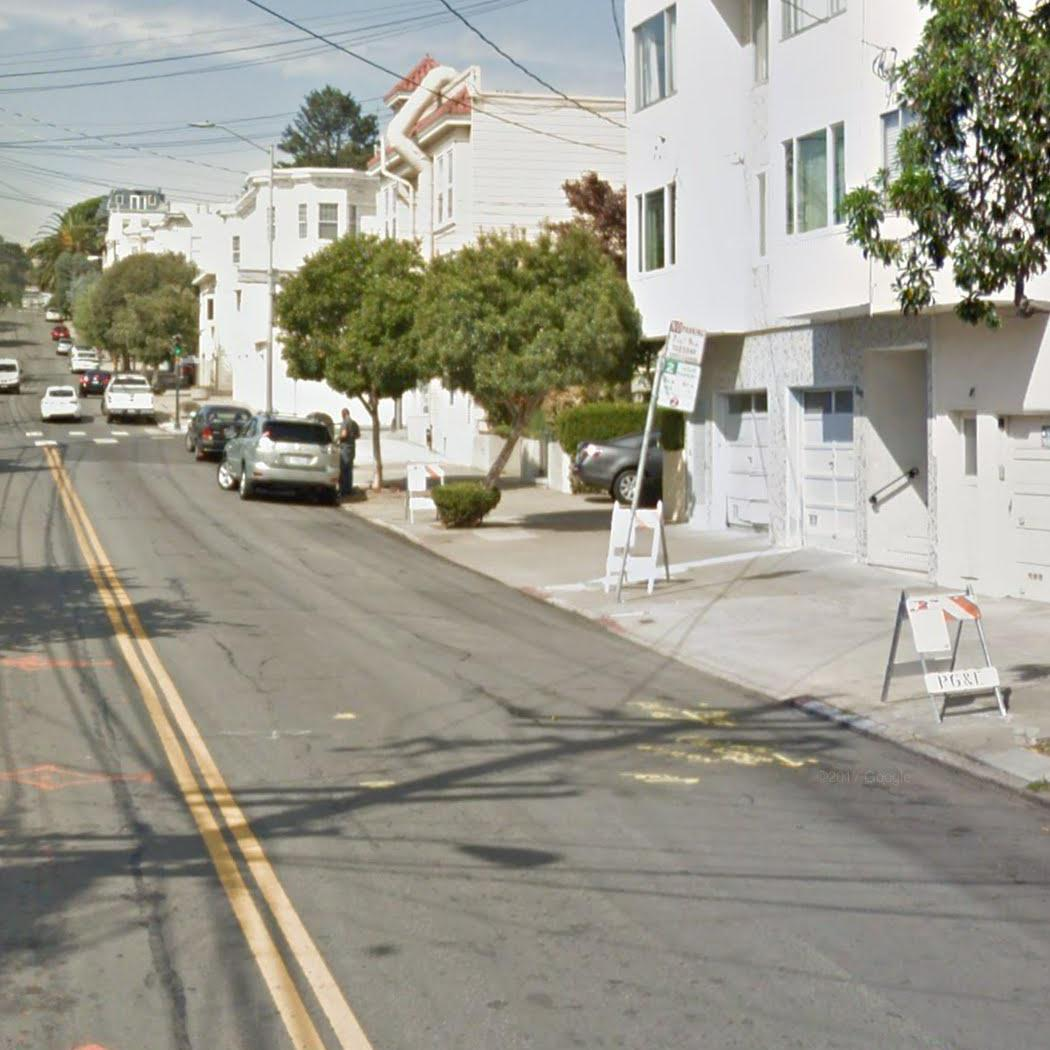2 Hour Parking: (653, 358, 703, 415)
No Parking: (659, 318, 711, 361)
